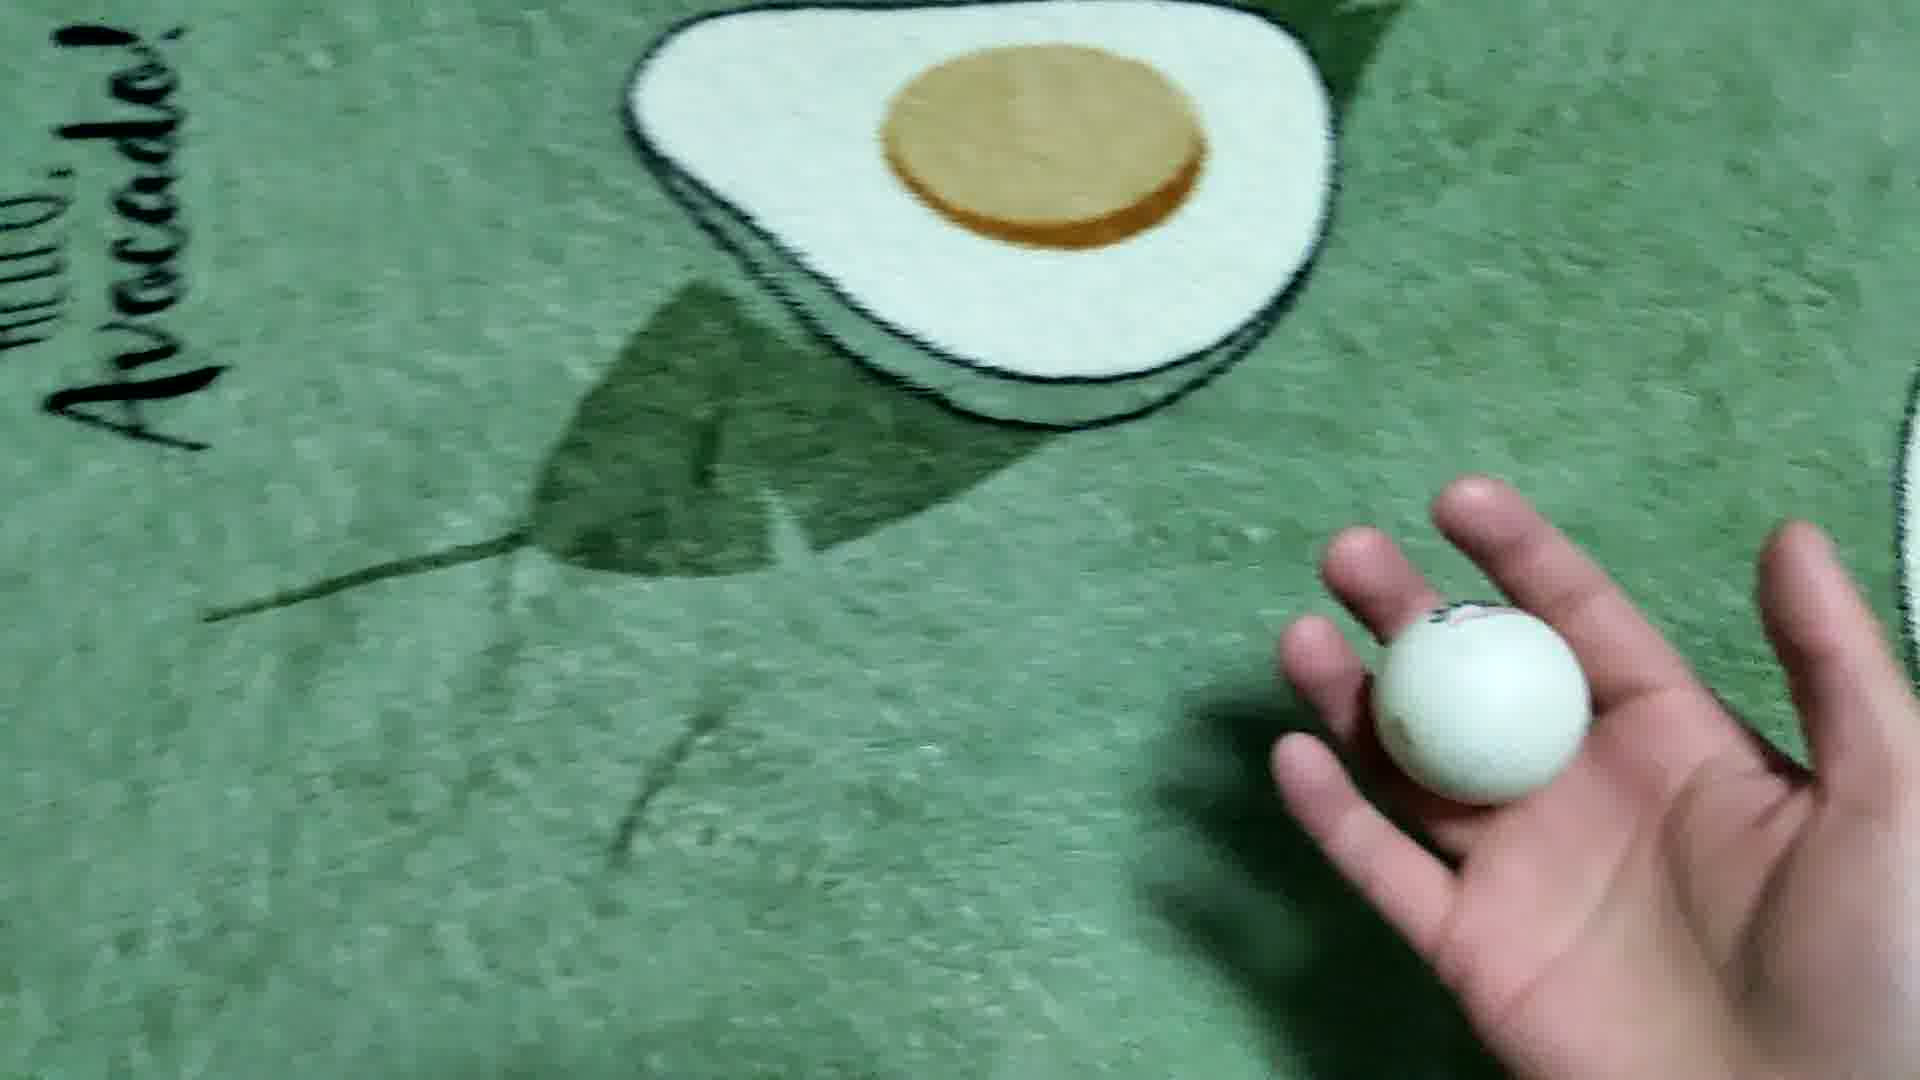Ball: (1370, 592, 1601, 808)
